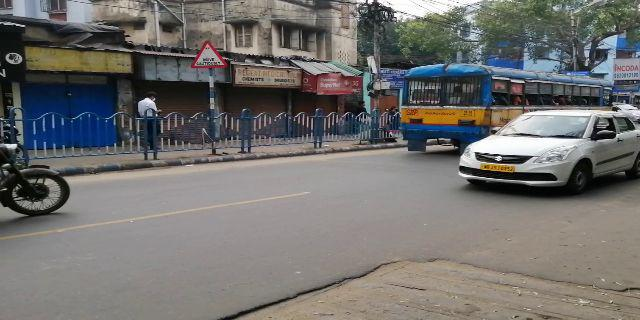Bus: (396, 67, 616, 157)
Car: (462, 111, 634, 189)
